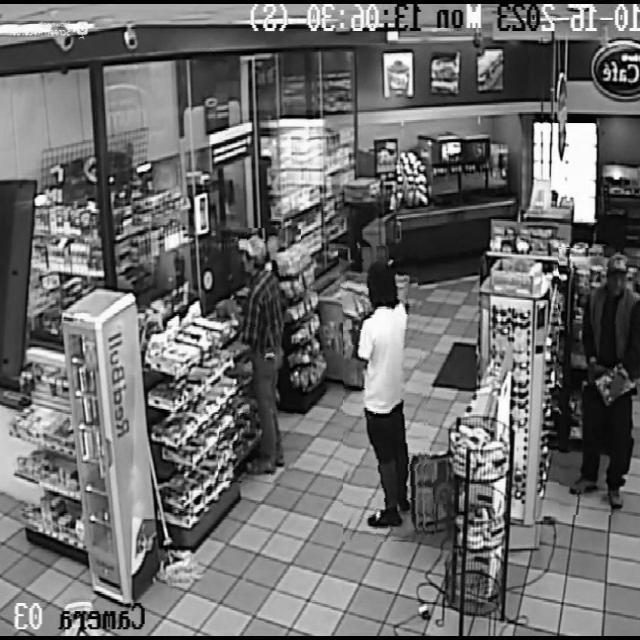Normal: (343, 244, 431, 542), (559, 246, 638, 515), (220, 227, 299, 483)
